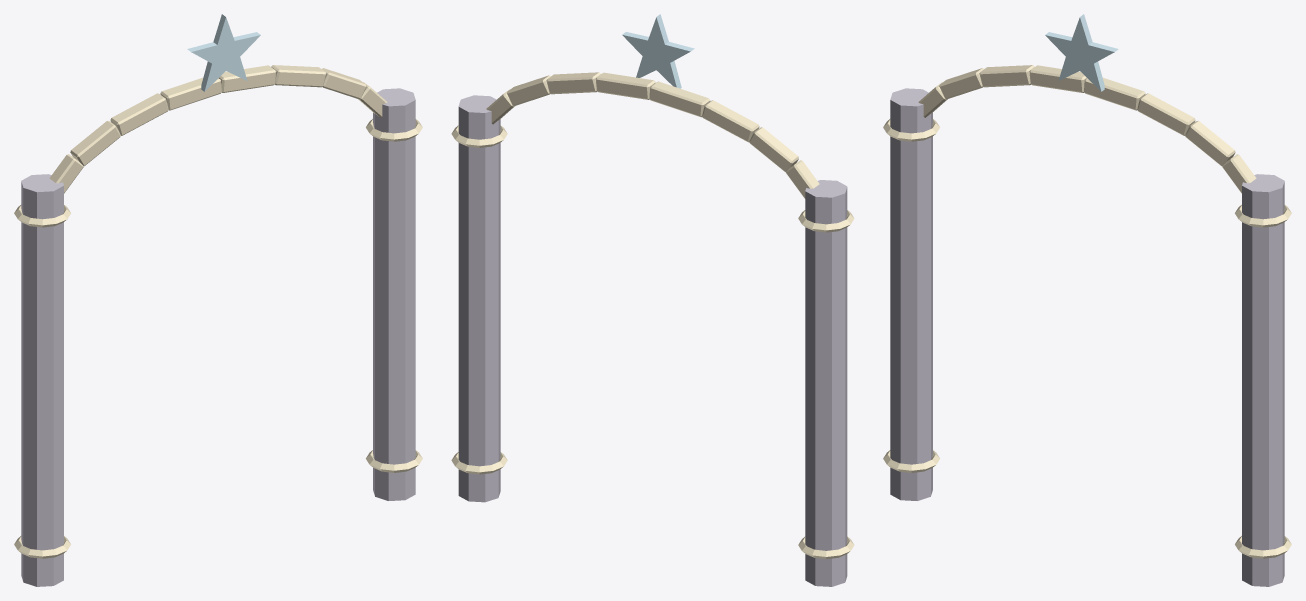
Rendered from Oracle_Gateway.fbx.
3 views of the same model, side by side, from view 1: azimuth 30°, elevation 25°; view 2: azimuth 150°, elevation 25°; view 3: azimuth 330°, elevation 25° (orthographic).
Visible parts, largest first — view 1: Oracle_Gateway; view 2: Oracle_Gateway; view 3: Oracle_Gateway.
Boxes of the visible parts, <box> form: Oracle_Gateway: <box>14,14,422,586</box>; Oracle_Gateway: <box>451,14,854,586</box>; Oracle_Gateway: <box>883,14,1291,586</box>.
Size of the model in its own units: 251 by 313 by 31.
